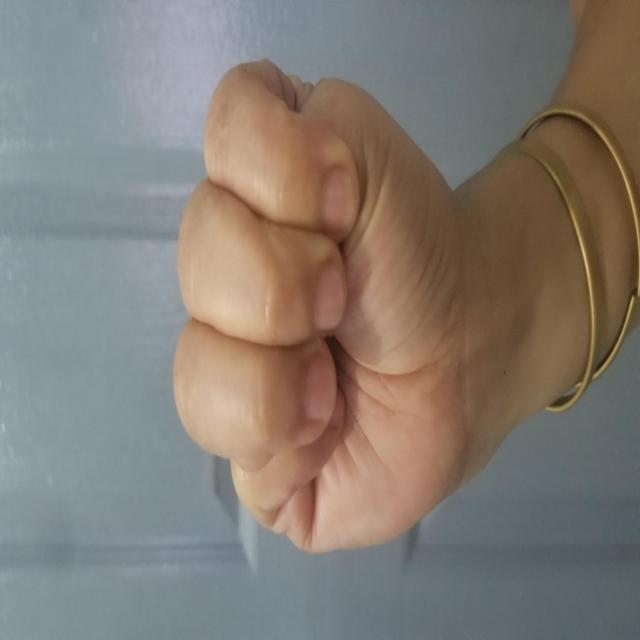M: (72, 28, 570, 595)
